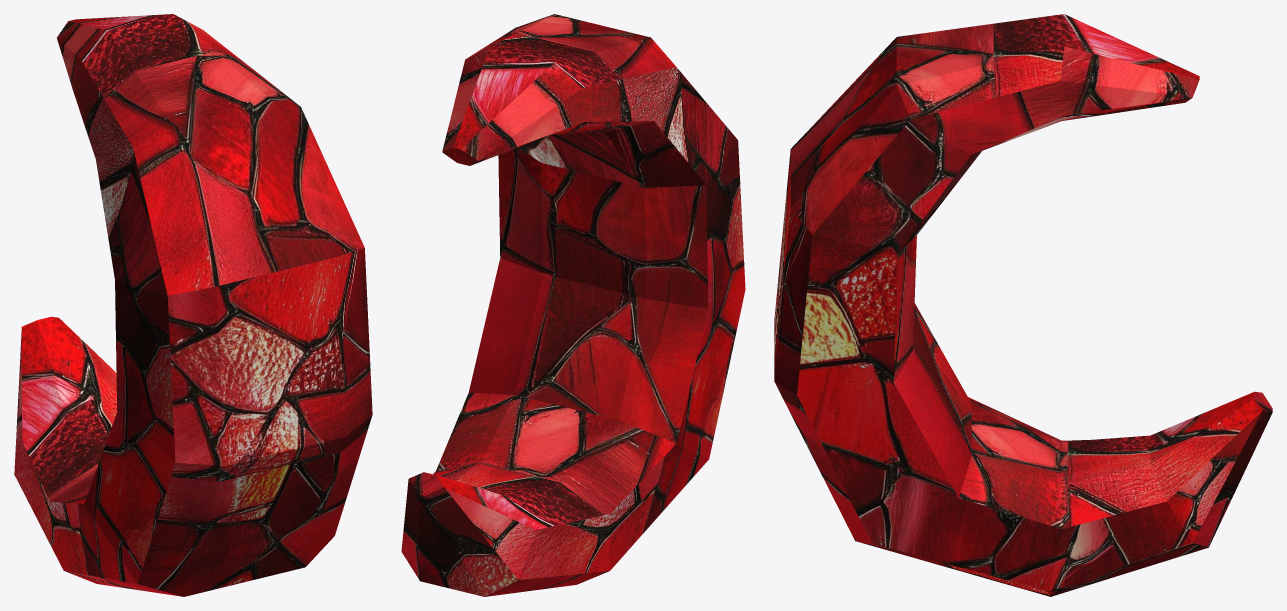
File: gemstone9RedCompressed.glb
The picture shows the model from 3 angles, left to right: view 1: azimuth 30°, elevation 25°; view 2: azimuth 150°, elevation 25°; view 3: azimuth 270°, elevation 25°; orthographic projection. The views are drawn at different scales.
Visible parts, largest first — view 1: gemstoneMoon; view 2: gemstoneMoon; view 3: gemstoneMoon.
Boxes of the visible parts, x1,y1,x2,y2 form: gemstoneMoon: (14, 14, 372, 596); gemstoneMoon: (401, 14, 745, 596); gemstoneMoon: (774, 14, 1272, 596).
Size of the model in its own units: 0.5 by 1.2 by 1.
Materials: 1 (1 with a texture image).
